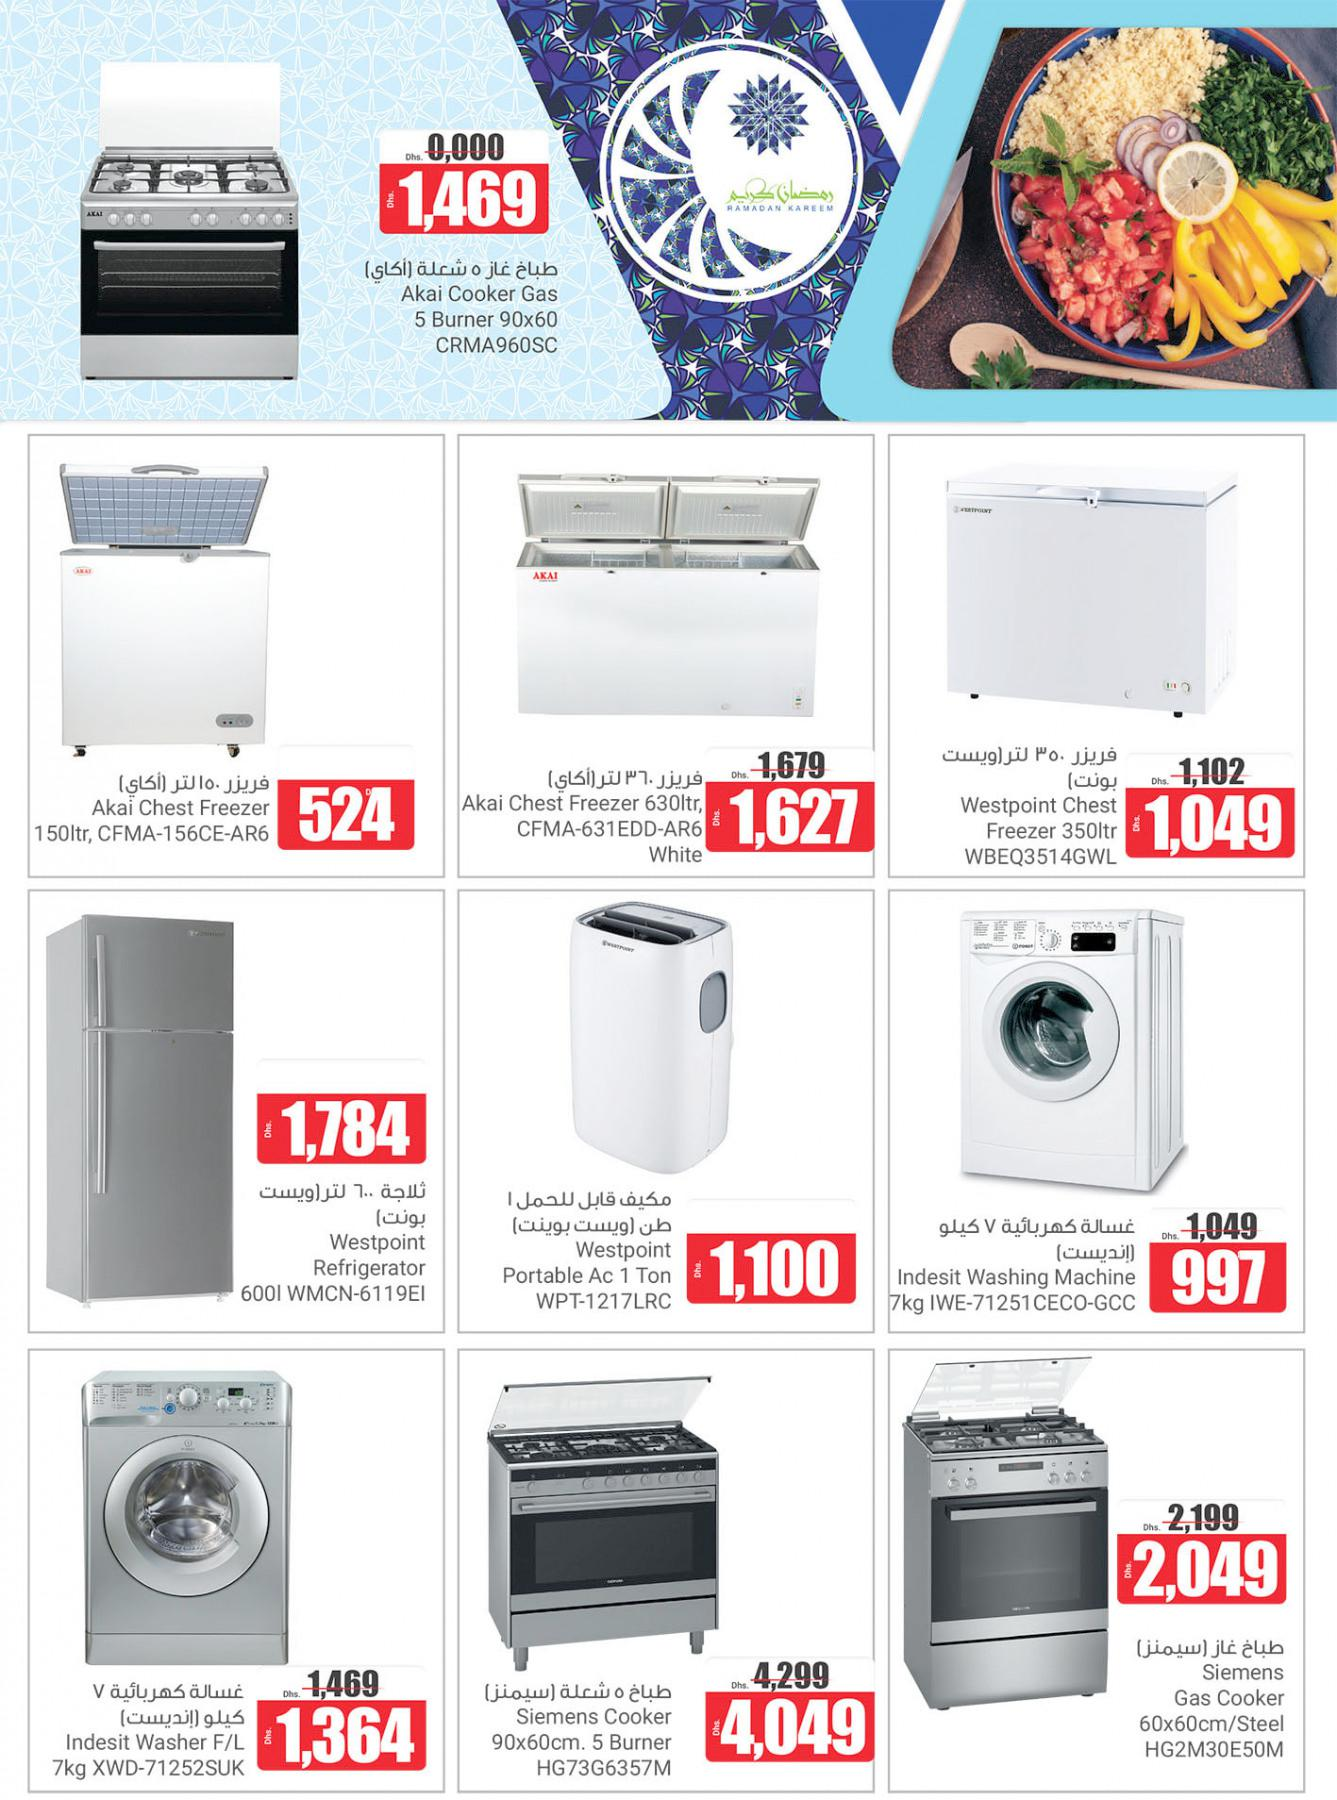text: (451, 788, 711, 869), (374, 278, 595, 368), (1136, 1657, 1300, 1763), (235, 1224, 435, 1309), (487, 1236, 678, 1321), (933, 790, 1129, 873), (477, 1705, 691, 1780), (885, 1264, 1145, 1324), (29, 793, 277, 854), (927, 1207, 1142, 1268), (41, 1728, 258, 1787), (927, 736, 1128, 792), (243, 1172, 430, 1231), (490, 1185, 683, 1238), (74, 1678, 256, 1730), (353, 250, 580, 284), (468, 1675, 690, 1707), (1118, 1629, 1298, 1667), (100, 760, 278, 798), (536, 760, 708, 793)
